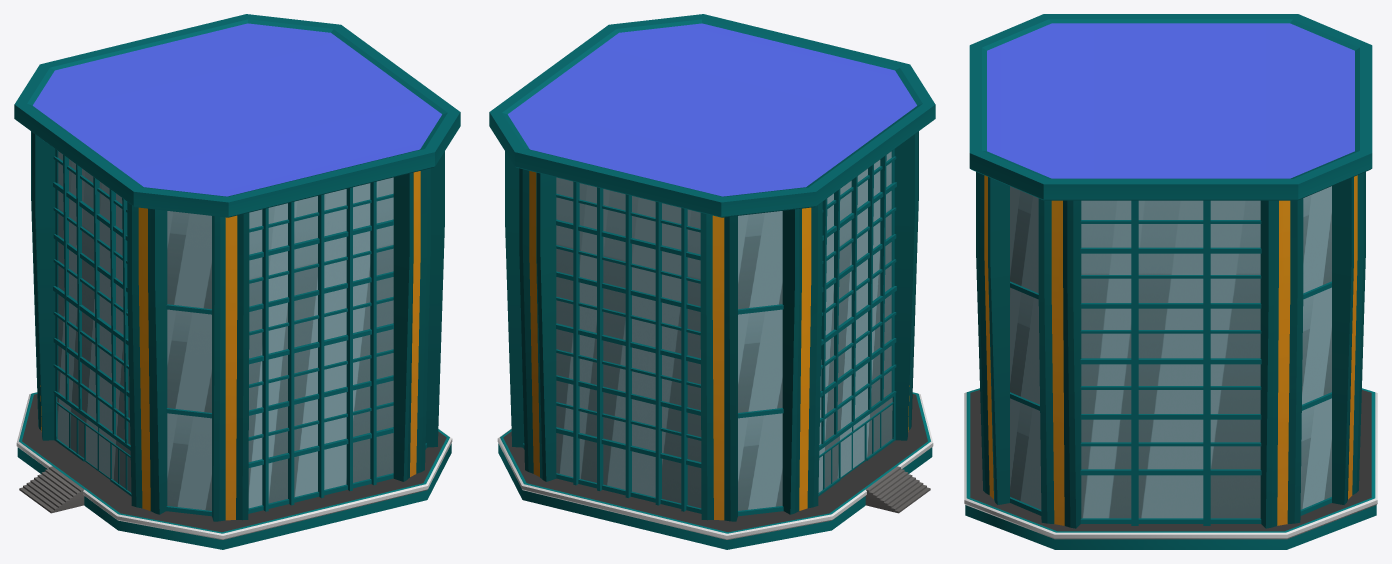
Rendered from Building_7_3_F.fbx.
3 views of the same model, side by side, from view 1: azimuth 30°, elevation 25°; view 2: azimuth 150°, elevation 25°; view 3: azimuth 270°, elevation 25° (orthographic). The views are drawn at different scales.
Parts seen in each view (by area): view 1: Building_7_3_F; view 2: Building_7_3_F; view 3: Building_7_3_F.
Boxes of the visible parts, x1=… form: Building_7_3_F: x1=14, y1=14, x2=460, y2=549; Building_7_3_F: x1=489, y1=14, x2=935, y2=549; Building_7_3_F: x1=964, y1=14, x2=1377, y2=549.
Size of the model in its own units: 2520 by 2267 by 2311.
